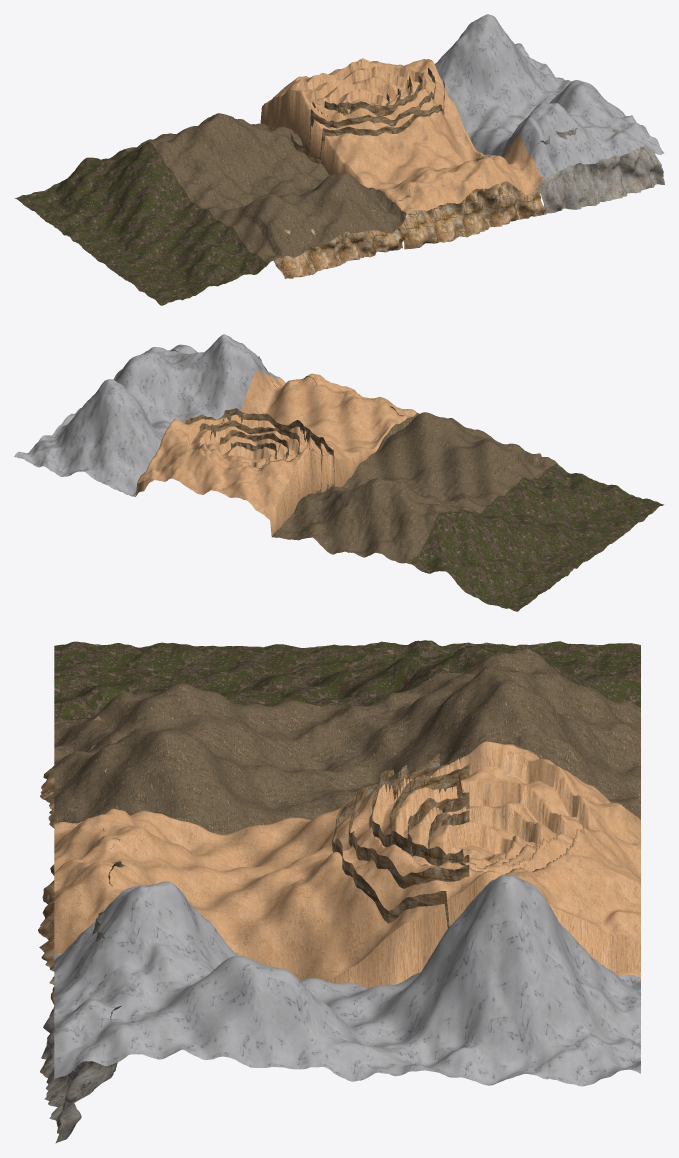
File: sculpted-terrain.glb
The picture shows the model from 3 angles, top to bottom: view 1: azimuth 30°, elevation 25°; view 2: azimuth 150°, elevation 25°; view 3: azimuth 270°, elevation 25°; orthographic projection. The views are drawn at different scales.
Parts seen in each view (by area): view 1: Sculpted quarry land, Sculpted forest land, Sculpted coast land, Sculpted snow land, Quarry escarpment, Alpine stone face, Forest ravine cliff, Carved quarry bench 6, Carved quarry bench 5, Carved quarry bench 4; view 2: Sculpted quarry land, Sculpted forest land, Sculpted coast land, Sculpted snow land, Carved quarry bench 4, Carved quarry bench 3, Carved quarry bench 2; view 3: Sculpted snow land, Sculpted quarry land, Sculpted forest land, Sculpted coast land, Alpine stone face, Carved quarry bench 5, Carved quarry bench 6, Carved quarry bench 3, Carved quarry bench 4, Quarry escarpment, Carved quarry bench 2.
Part boxes in pixels (bbox=[...]): Sculpted quarry land: bbox=[260, 58, 544, 213]; Sculpted forest land: bbox=[125, 113, 406, 263]; Sculpted coast land: bbox=[14, 141, 268, 305]; Sculpted snow land: bbox=[435, 14, 664, 178]; Quarry escarpment: bbox=[399, 155, 545, 249]; Alpine stone face: bbox=[532, 128, 664, 214]; Forest ravine cliff: bbox=[273, 204, 404, 278]; Carved quarry bench 6: bbox=[291, 78, 444, 164]; Carved quarry bench 5: bbox=[302, 68, 435, 152]; Carved quarry bench 4: bbox=[312, 75, 422, 116]; Sculpted quarry land: bbox=[134, 370, 417, 536]; Sculpted forest land: bbox=[272, 412, 556, 563]; Sculpted coast land: bbox=[410, 463, 663, 611]; Sculpted snow land: bbox=[14, 334, 280, 496]; Carved quarry bench 4: bbox=[199, 408, 310, 449]; Carved quarry bench 3: bbox=[210, 420, 299, 454]; Carved quarry bench 2: bbox=[220, 429, 288, 460]; Sculpted snow land: bbox=[54, 874, 640, 1086]; Sculpted quarry land: bbox=[54, 741, 640, 988]; Sculpted forest land: bbox=[54, 648, 640, 834]; Sculpted coast land: bbox=[54, 640, 640, 720]; Alpine stone face: bbox=[40, 909, 121, 1143]; Carved quarry bench 5: bbox=[348, 753, 469, 888]; Carved quarry bench 6: bbox=[332, 787, 449, 927]; Carved quarry bench 3: bbox=[389, 772, 469, 865]; Carved quarry bench 4: bbox=[369, 764, 469, 865]; Quarry escarpment: bbox=[38, 828, 124, 1016]; Carved quarry bench 2: bbox=[407, 796, 469, 862].
Bounding box in the file's own units: 18.38 × 3.57 × 9.51.
7 materials, 7 textured.
